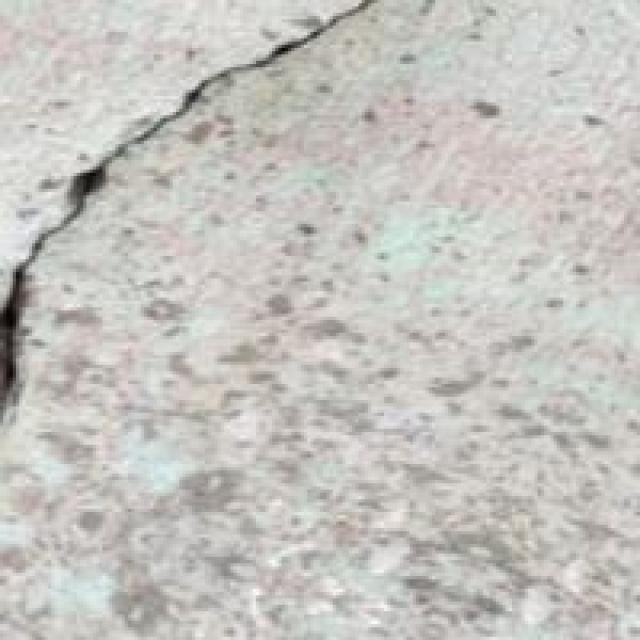Crack: (0, 0, 397, 426)
